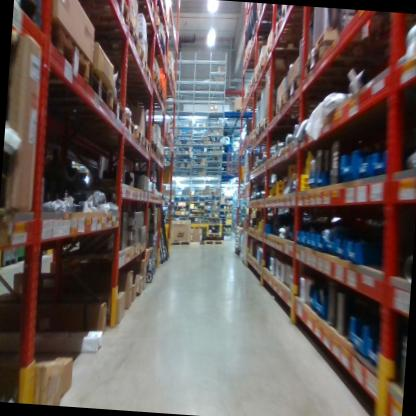pallet: (21, 21, 94, 96), (304, 39, 386, 93), (305, 19, 395, 68), (285, 67, 360, 107), (272, 88, 351, 125), (271, 20, 337, 62), (1, 132, 26, 231), (83, 16, 144, 51), (74, 0, 141, 28), (81, 63, 112, 115), (12, 0, 53, 34), (96, 45, 151, 70), (255, 59, 310, 82), (249, 20, 288, 51), (108, 64, 155, 88), (118, 77, 167, 98), (104, 88, 126, 129), (279, 6, 313, 23), (120, 108, 137, 139), (260, 118, 281, 142), (123, 97, 167, 108), (131, 118, 145, 152), (140, 132, 152, 156), (201, 237, 226, 248), (247, 123, 259, 143), (151, 66, 162, 87), (170, 238, 192, 248), (148, 136, 159, 155), (253, 114, 262, 135), (153, 144, 162, 161), (158, 149, 164, 163)
pallet_truck: (140, 205, 160, 291), (147, 203, 161, 286)
